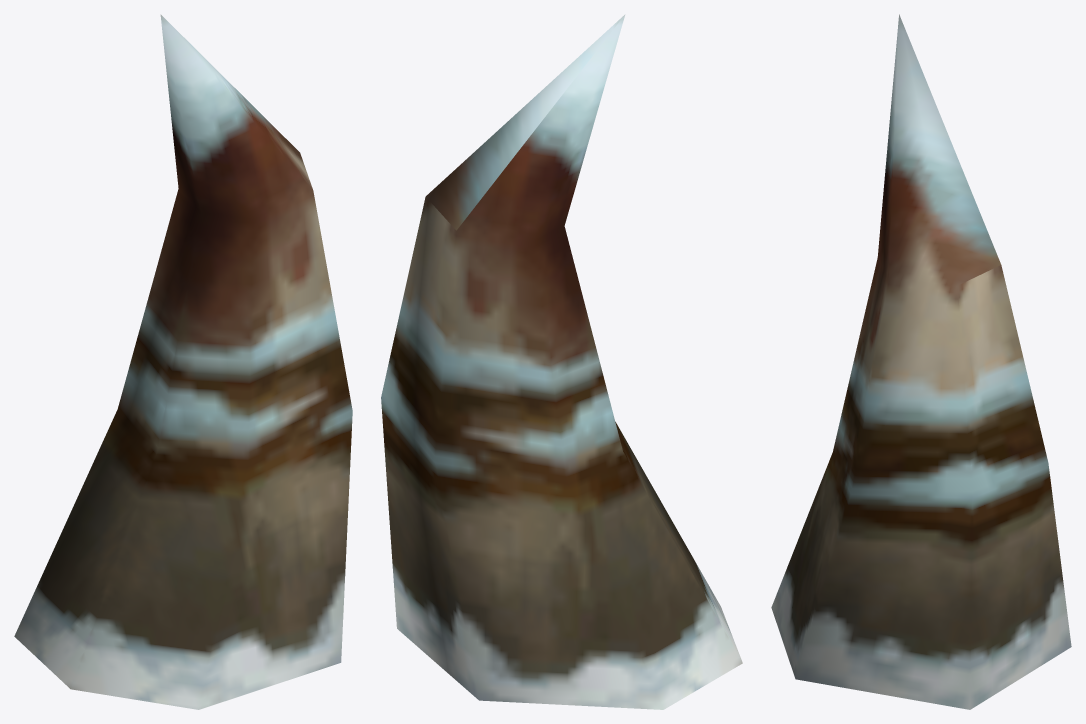
The model's file is environment_common_xuedimuzhuang_001_a.FBX.
The picture shows the model from 3 angles, left to right: view 1: azimuth 30°, elevation 25°; view 2: azimuth 150°, elevation 25°; view 3: azimuth 270°, elevation 25°; orthographic projection. The views are drawn at different scales.
Visible parts, largest first — view 1: environment_common_xuedimuzhuang_001_a; view 2: environment_common_xuedimuzhuang_001_a; view 3: environment_common_xuedimuzhuang_001_a.
Part boxes in pixels (x1,y1,x2,y2): environment_common_xuedimuzhuang_001_a: (14,14,352,709); environment_common_xuedimuzhuang_001_a: (381,14,742,709); environment_common_xuedimuzhuang_001_a: (771,14,1071,709).
Bounding box in the file's own units: 60.46 × 118 × 53.11.
